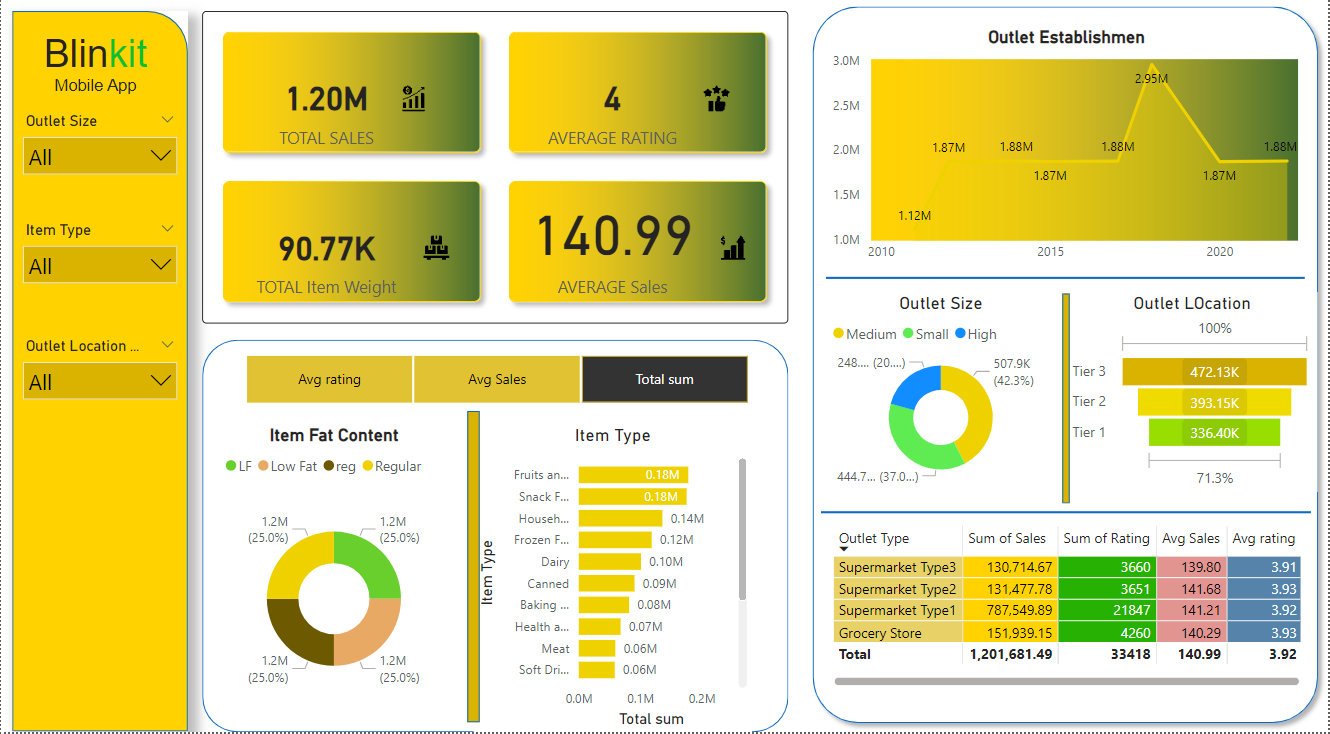

The dashboard page shown, as its layout file describes it:
{"tool":"powerbi","page":{"name":"Page 1","canvas":[1280,720],"ordinal":0},"visuals":[{"type":"shape","box":[10.8,24.2,169.4,695.3],"z":0},{"type":"textbox","box":[21.7,38.6,138.7,78.4],"z":1000},{"type":"cardVisual","fields":{"Data":["Sum(Table1.Sales)","Avg(Table1.Rating)","Sum(BlinkIT Grocery Data.Item Weight)","Avg(BlinkIT Grocery Data.Sales)"]},"box":[194.2,24.1,565.8,301.6],"z":2000},{"type":"slicer","fields":{"Values":["BlinkIT Grocery Data.Outlet Size"]},"box":[10.9,117,168.9,77.2],"z":3000},{"type":"shape","box":[194.2,341.4,565.8,378.8],"z":4000},{"type":"donutChart","title":"Item Fat Content","fields":{"Y":["BlinkIT Grocery Data.Total sum"],"Category":["Table1.Item Fat Content"]},"box":[211.1,423.5,220.8,287.1],"z":5000},{"type":"slicer","fields":{"Values":["Metrics_1.Metrics_1"]},"box":[211.1,349.9,533.2,59.1],"z":6000},{"type":"barChart","title":"Item Type","fields":{"Y":["BlinkIT Grocery Data.Total sum"],"Category":["BlinkIT Grocery Data.Item Type"]},"box":[456,423.5,269,296.8],"z":7000},{"type":"shape","box":[774.5,10.9,505.5,709.4],"z":8000},{"type":"lineChart","title":"Outlet Establishmen","fields":{"Y":["Sum(BlinkIT Grocery Data.Outlet Establishment Year)"],"Category":["BlinkIT Grocery Data.Outlet Establishment Year"]},"box":[797.5,38.6,462.1,236.5],"z":9000},{"type":"donutChart","title":"Outlet Size","fields":{"Category":["BlinkIT Grocery Data.Outlet Size"],"Y":["Sum(BlinkIT Grocery Data.Sales)"]},"box":[797.5,295.6,219.6,193],"z":10000},{"type":"funnel","title":"Outlet LOcation","fields":{"Y":["Sum(BlinkIT Grocery Data.Sales)"],"Category":["BlinkIT Grocery Data.Outlet Location Type"]},"box":[1029.1,295.6,241.3,193],"z":11000},{"type":"tableEx","title":"Outlet Size","fields":{"Values":["BlinkIT Grocery Data.Outlet Type","Sum(BlinkIT Grocery Data.Sales)","Sum(BlinkIT Grocery Data.Rating)","BlinkIT Grocery Data.Avg Sales","BlinkIT Grocery Data.Avg rating"]},"box":[797.5,516.4,462.1,164.1],"z":12000},{"type":"slicer","fields":{"Values":["BlinkIT Grocery Data.Item Type"]},"box":[10.9,222,168.9,88.1],"z":13000},{"type":"slicer","fields":{"Values":["BlinkIT Grocery Data.Outlet Location Type"]},"box":[10.9,334.2,168.9,100.1],"z":14000},{"type":"shape","box":[796.3,266.6,462.1,30.2],"z":15000},{"type":"shape","box":[791.4,485,472.9,45.8],"z":16000},{"type":"shape","box":[450,410.2,12.1,300.4],"z":17000},{"type":"shape","box":[1024.3,296.8,7.2,202.7],"z":18000}]}

Visuals, with their boxes in screenshot pixels (x1, y1, x2, y2), scaled from the page's 1280x720 canvas onto the 1330x734 screenshot:
shape: <box>11,25,187,733</box>
textbox: <box>23,39,167,119</box>
cardVisual - Sum(Table1.Sales) x Avg(Table1.Rating): <box>202,25,790,332</box>
slicer - BlinkIT Grocery Data.Outlet Size: <box>11,119,187,198</box>
shape: <box>202,348,790,733</box>
"Item Fat Content" donutChart: <box>219,432,449,724</box>
slicer - Metrics_1.Metrics_1: <box>219,357,773,417</box>
"Item Type" barChart: <box>474,432,753,733</box>
shape: <box>805,11,1329,733</box>
"Outlet Establishmen" lineChart: <box>829,39,1309,280</box>
"Outlet Size" donutChart: <box>829,301,1057,498</box>
"Outlet LOcation" funnel: <box>1069,301,1320,498</box>
"Outlet Size" tableEx: <box>829,526,1309,694</box>
slicer - BlinkIT Grocery Data.Item Type: <box>11,226,187,316</box>
slicer - BlinkIT Grocery Data.Outlet Location Type: <box>11,341,187,443</box>
shape: <box>827,272,1308,303</box>
shape: <box>822,494,1314,541</box>
shape: <box>468,418,480,724</box>
shape: <box>1064,303,1072,509</box>
